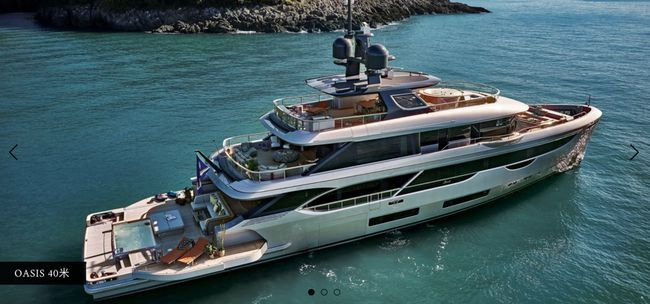yacht: (67, 61, 604, 288)
